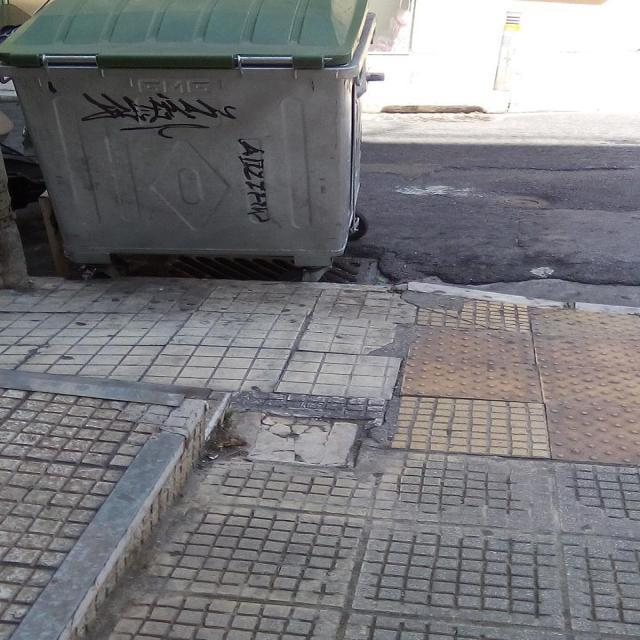nonspitting: (79, 92, 239, 138), (240, 140, 270, 222)
